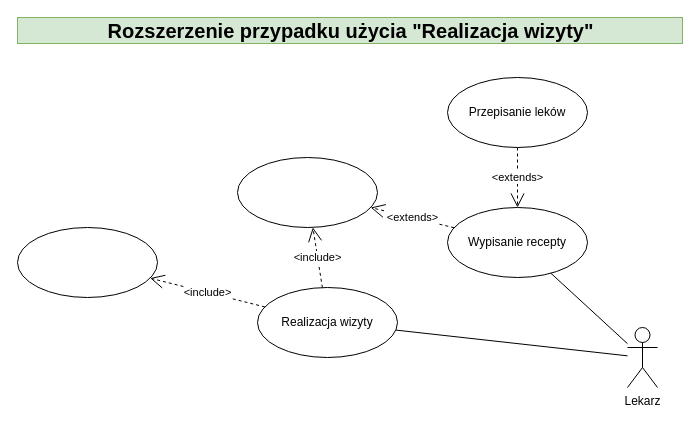
The diagram is 700 pixels wide and 426 high, and some of its shapes have lost their labels. The shapes that lost their labels are listed below. From the top down, each one's centre as x and y in pixels, then its label:
the point at 307,192: Postawienie diagnozy
the point at 87,262: Zapis wizyty do karty pacjenta
